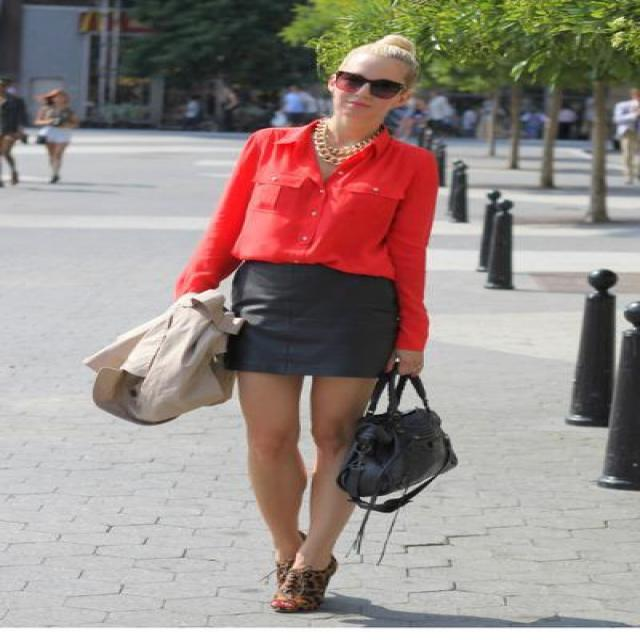bag: (336, 396, 456, 522)
shirt: (176, 115, 437, 351)
shoe: (262, 552, 336, 612)
skirt: (216, 261, 402, 397)
sunglass: (364, 78, 402, 98)
